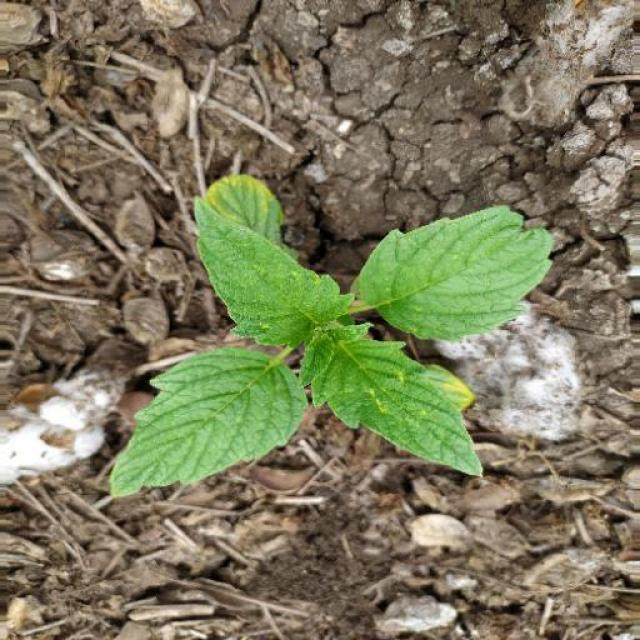crop: (102, 154, 558, 525)
